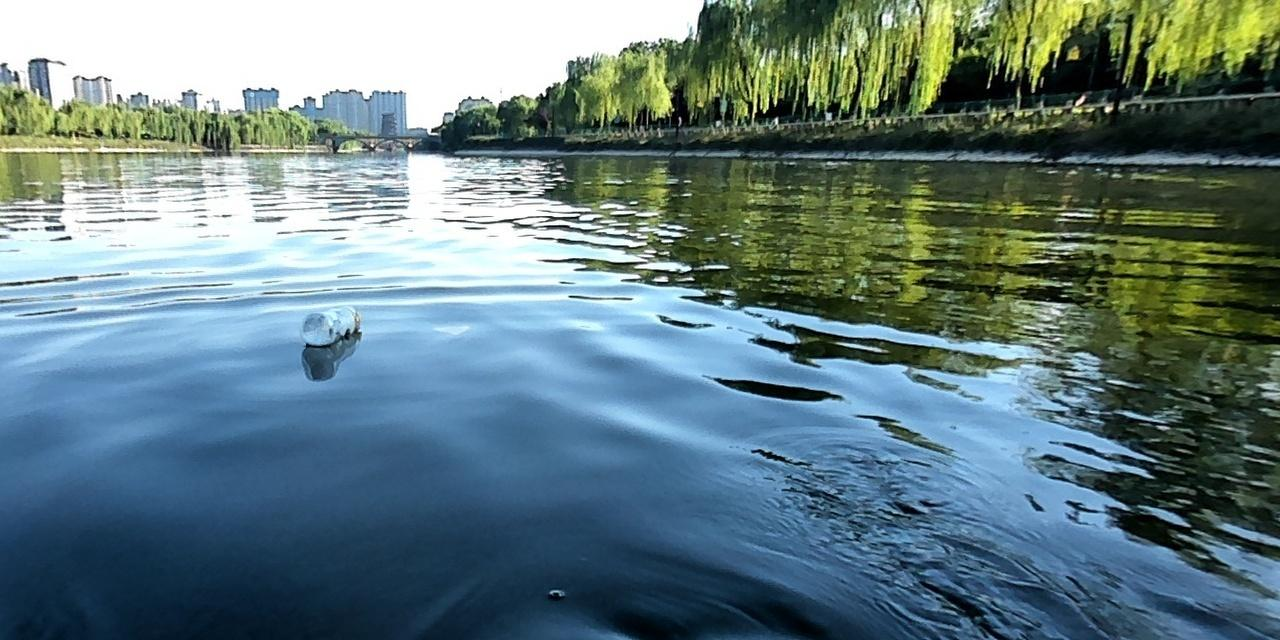bottle: (295, 300, 362, 349)
